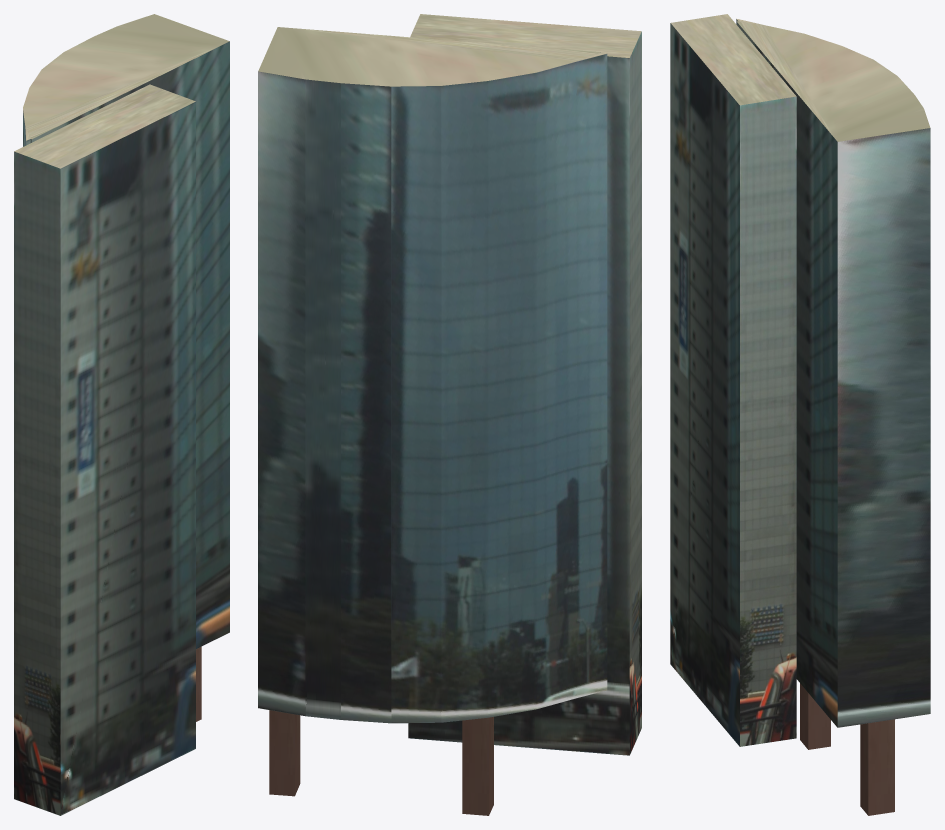
3 views of the same model, side by side, from view 1: azimuth 30°, elevation 25°; view 2: azimuth 150°, elevation 25°; view 3: azimuth 270°, elevation 25° (orthographic). The views are drawn at different scales.
Visible parts, largest first — view 1: ShapeIndexedFaceSet.004_ShapeIndexedFaceSet.005, ShapeIndexedFaceSet_ShapeIndexedFaceSet.001, ShapeIndexedFaceSet.018_ShapeIndexedFaceSet.019, ShapeIndexedFaceSet.003_ShapeIndexedFaceSet.004, ShapeIndexedFaceSet.005_ShapeIndexedFaceSet.006, ShapeIndexedFaceSet.025_ShapeIndexedFaceSet.026; view 2: ShapeIndexedFaceSet.014_ShapeIndexedFaceSet.015, ShapeIndexedFaceSet.013_ShapeIndexedFaceSet.014, ShapeIndexedFaceSet.011_ShapeIndexedFaceSet.012, ShapeIndexedFaceSet.012_ShapeIndexedFaceSet.013, ShapeIndexedFaceSet.016_ShapeIndexedFaceSet.017, ShapeIndexedFaceSet.010_ShapeIndexedFaceSet.011, ShapeIndexedFaceSet.015_ShapeIndexedFaceSet.016, ShapeIndexedFaceSet.002_ShapeIndexedFaceSet.003, ShapeIndexedFaceSet.009_ShapeIndexedFaceSet.010, ShapeIndexedFaceSet.003_ShapeIndexedFaceSet.004, ShapeIndexedFaceSet_ShapeIndexedFaceSet.001, ShapeIndexedFaceSet.005_ShapeIndexedFaceSet.006 (+2 smaller); view 3: ShapeIndexedFaceSet.017_ShapeIndexedFaceSet.018, ShapeIndexedFaceSet.004_ShapeIndexedFaceSet.005, ShapeIndexedFaceSet.001_ShapeIndexedFaceSet.002, ShapeIndexedFaceSet.018_ShapeIndexedFaceSet.019, ShapeIndexedFaceSet.003_ShapeIndexedFaceSet.004, ShapeIndexedFaceSet.005_ShapeIndexedFaceSet.006, ShapeIndexedFaceSet.024_ShapeIndexedFaceSet.025, ShapeIndexedFaceSet.020_ShapeIndexedFaceSet.021, ShapeIndexedFaceSet.025_ShapeIndexedFaceSet.026, ShapeIndexedFaceSet.021_ShapeIndexedFaceSet.022.
Part boxes in pixels (x1,y1,x2,y2): ShapeIndexedFaceSet.004_ShapeIndexedFaceSet.005: (60,101,195,815); ShapeIndexedFaceSet_ShapeIndexedFaceSet.001: (14,151,60,815); ShapeIndexedFaceSet.018_ShapeIndexedFaceSet.019: (31,41,229,648); ShapeIndexedFaceSet.003_ShapeIndexedFaceSet.004: (23,14,229,140); ShapeIndexedFaceSet.005_ShapeIndexedFaceSet.006: (14,84,195,168); ShapeIndexedFaceSet.025_ShapeIndexedFaceSet.026: (196,646,201,721); ShapeIndexedFaceSet.014_ShapeIndexedFaceSet.015: (341,83,391,723); ShapeIndexedFaceSet.013_ShapeIndexedFaceSet.014: (391,86,441,723); ShapeIndexedFaceSet.011_ShapeIndexedFaceSet.012: (488,72,536,717); ShapeIndexedFaceSet.012_ShapeIndexedFaceSet.013: (441,81,488,722); ShapeIndexedFaceSet.016_ShapeIndexedFaceSet.017: (258,71,305,715); ShapeIndexedFaceSet.010_ShapeIndexedFaceSet.011: (536,61,576,708); ShapeIndexedFaceSet.015_ShapeIndexedFaceSet.016: (305,79,340,719); ShapeIndexedFaceSet.002_ShapeIndexedFaceSet.003: (408,56,629,755); ShapeIndexedFaceSet.009_ShapeIndexedFaceSet.010: (577,54,607,697); ShapeIndexedFaceSet.003_ShapeIndexedFaceSet.004: (258,27,606,86); ShapeIndexedFaceSet_ShapeIndexedFaceSet.001: (629,31,641,755); ShapeIndexedFaceSet.005_ShapeIndexedFaceSet.006: (410,14,641,57); ShapeIndexedFaceSet.017_ShapeIndexedFaceSet.018: (837,128,930,727); ShapeIndexedFaceSet.004_ShapeIndexedFaceSet.005: (670,23,739,746); ShapeIndexedFaceSet.001_ShapeIndexedFaceSet.002: (740,96,796,746); ShapeIndexedFaceSet.018_ShapeIndexedFaceSet.019: (736,22,837,727); ShapeIndexedFaceSet.003_ShapeIndexedFaceSet.004: (736,18,930,141); ShapeIndexedFaceSet.005_ShapeIndexedFaceSet.006: (671,14,796,105); ShapeIndexedFaceSet.024_ShapeIndexedFaceSet.025: (868,719,894,815); ShapeIndexedFaceSet.020_ShapeIndexedFaceSet.021: (808,693,830,749); ShapeIndexedFaceSet.025_ShapeIndexedFaceSet.026: (860,723,868,815); ShapeIndexedFaceSet.021_ShapeIndexedFaceSet.022: (800,683,808,749).
Bounding box in the file's own units: 29.38 × 71.58 × 24.59.
Materials: 27 (27 with a texture image).
